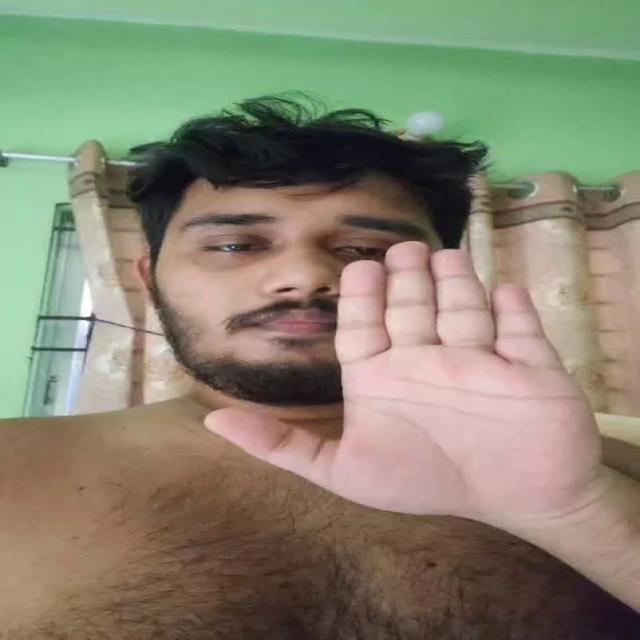Hello-Yes-No-Thanks-IloveYou: (199, 238, 597, 511)
